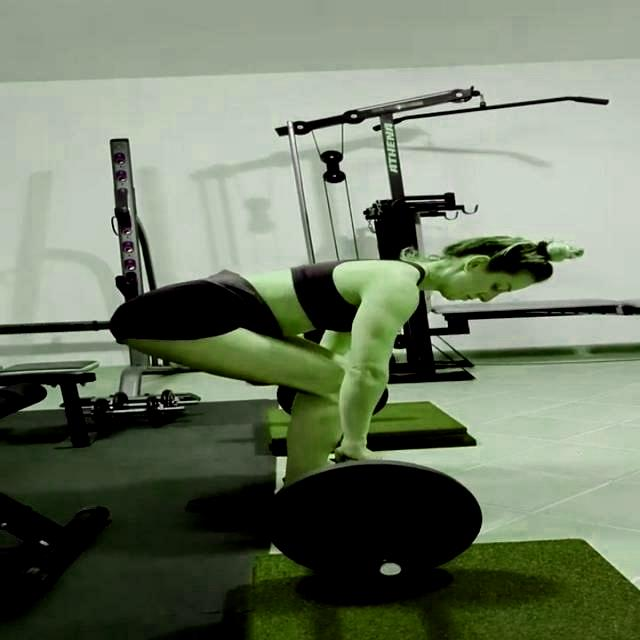barbell: (255, 460, 487, 590)
